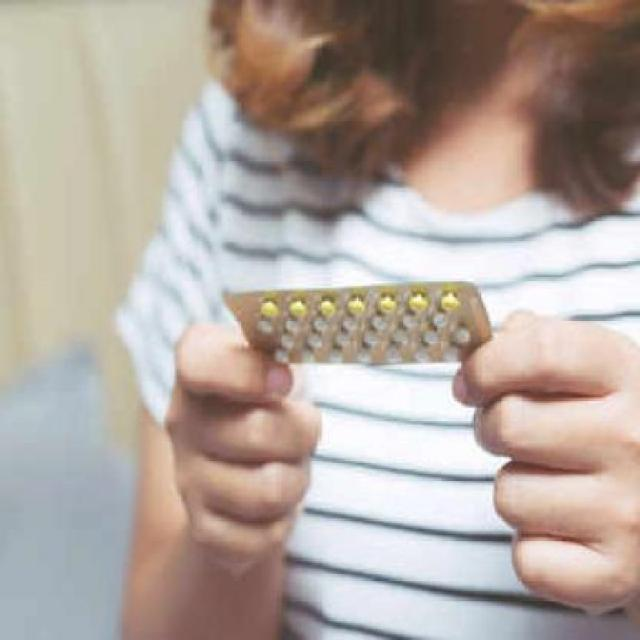B3: (239, 277, 492, 365)
